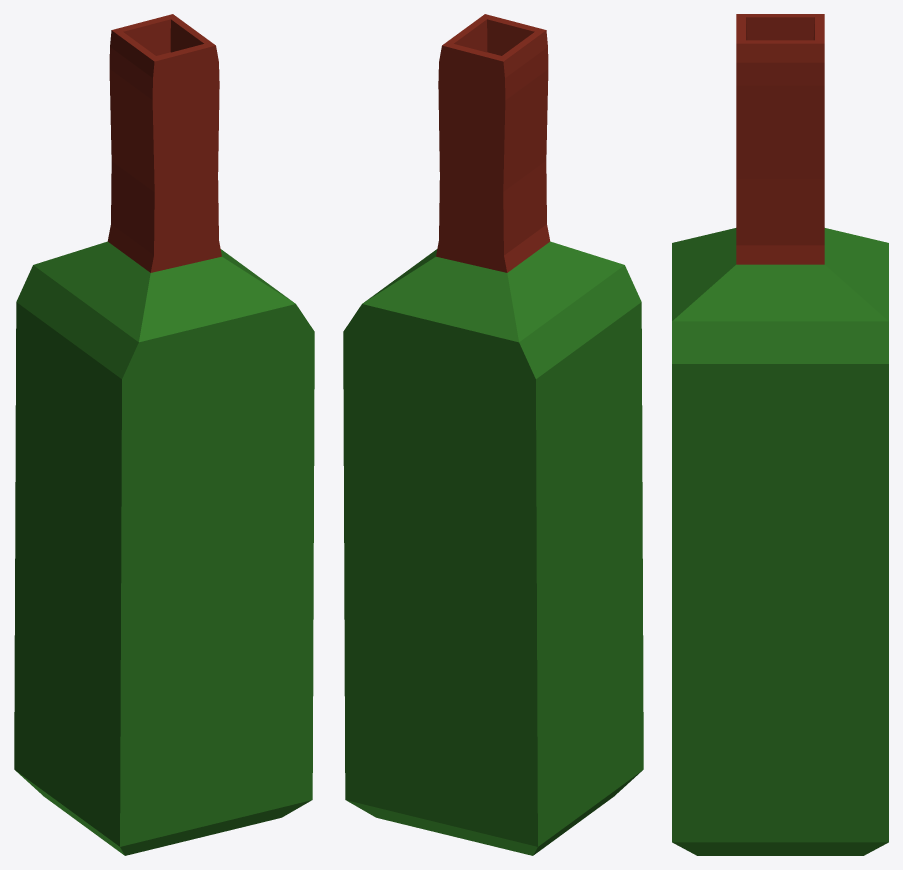
Rendered from Sviat.fbx.
3 views of the same model, side by side, from view 1: azimuth 30°, elevation 25°; view 2: azimuth 150°, elevation 25°; view 3: azimuth 270°, elevation 25° (orthographic). The views are drawn at different scales.
Parts seen in each view (by area): view 1: Cube; view 2: Cube; view 3: Cube.
Boxes of the visible parts, x1,y1,x2,y2 form: Cube: (14,14,314,855); Cube: (343,14,643,855); Cube: (672,14,888,855).
Size of the model in its own units: 122 by 460 by 115.
